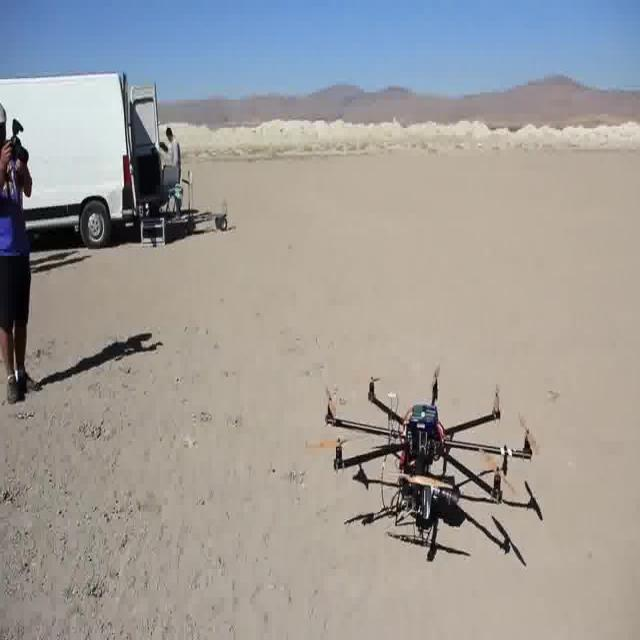drones: (302, 355, 548, 574)
